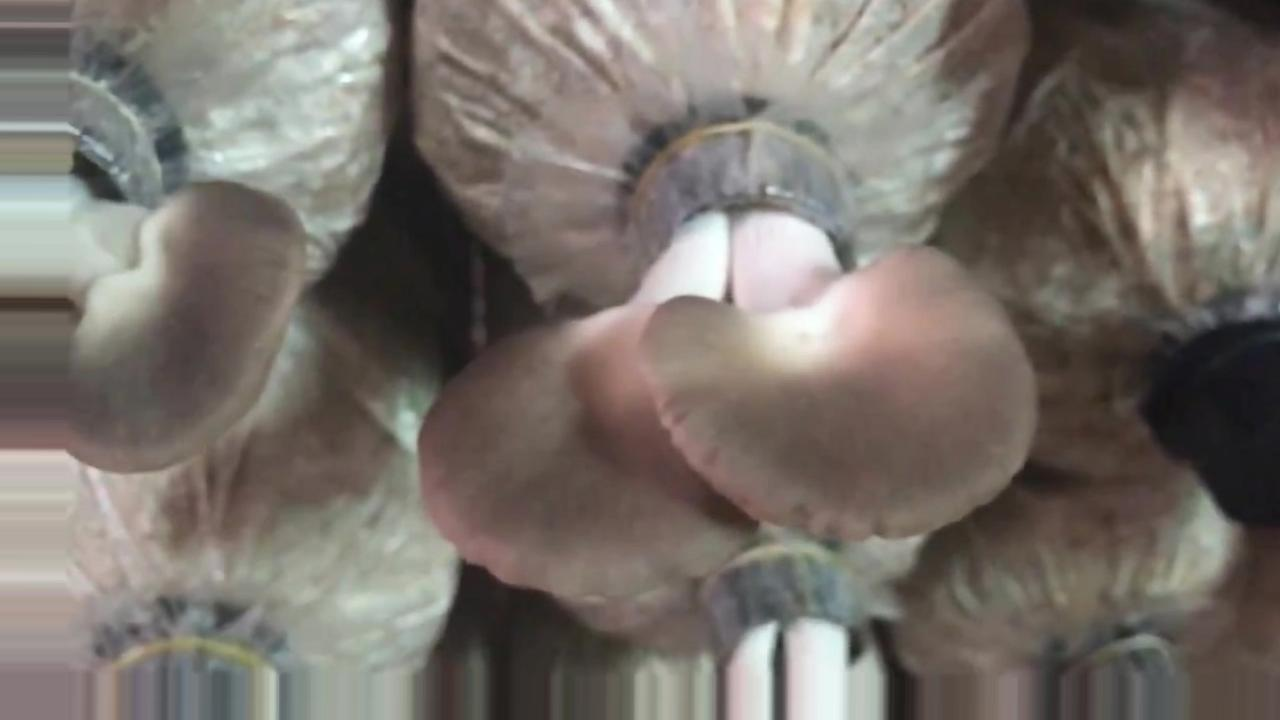nam: (414, 124, 1041, 607), (66, 96, 310, 482)
